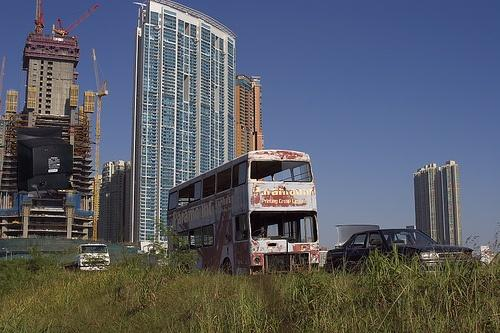tampered: (16, 128, 73, 198)
